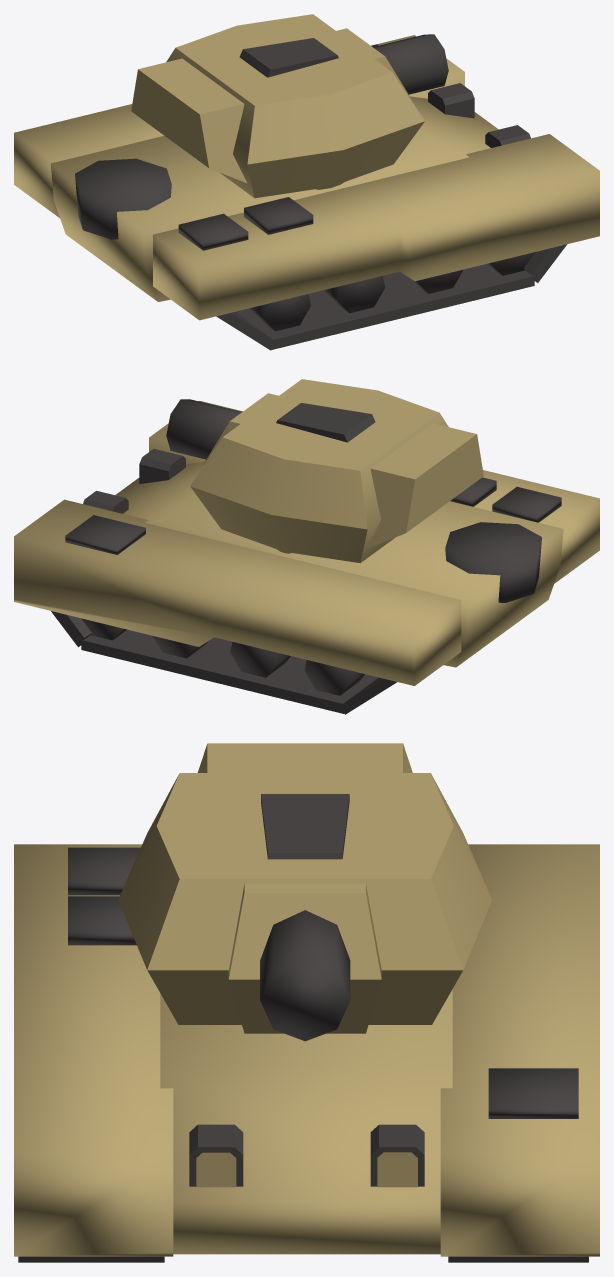
The model's file is demolisher.glb.
3 renders of one model, top to bottom at view 1: azimuth 30°, elevation 25°; view 2: azimuth 150°, elevation 25°; view 3: azimuth 270°, elevation 25°, orthographic. The views are drawn at different scales.
Parts seen in each view (by area): view 1: Cylinder.001, turret, Cylinder.010, gun; view 2: Cylinder.001, turret, Cylinder.010, gun; view 3: Cylinder.001, turret, gun, Cylinder.010.
Boxes of the visible parts, x1=… form: Cylinder.001: x1=14, y1=35, x2=599, y2=320; turret: x1=131, y1=14, x2=424, y2=198; Cylinder.010: x1=216, y1=244, x2=566, y2=350; gun: x1=373, y1=34, x2=448, y2=94; Cylinder.001: x1=14, y1=401, x2=599, y2=685; turret: x1=190, y1=379, x2=483, y2=563; Cylinder.010: x1=51, y1=611, x2=396, y2=714; gun: x1=166, y1=399, x2=241, y2=459; Cylinder.001: x1=14, y1=844, x2=599, y2=1256; turret: x1=118, y1=743, x2=491, y2=1033; gun: x1=260, y1=910, x2=350, y2=1041; Cylinder.010: x1=18, y1=1256, x2=588, y2=1262.
Size of the model in its own units: 6.23 by 2.86 by 4.67.
